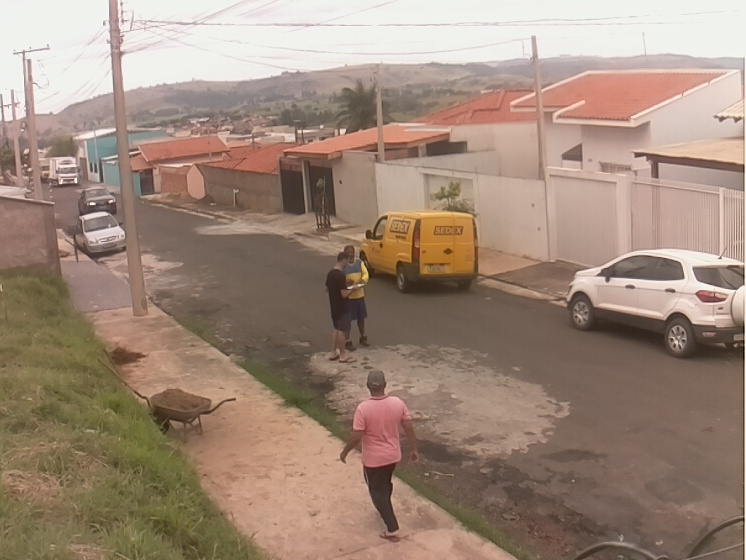person: (338, 369, 422, 544), (324, 251, 358, 364), (342, 243, 372, 352)
